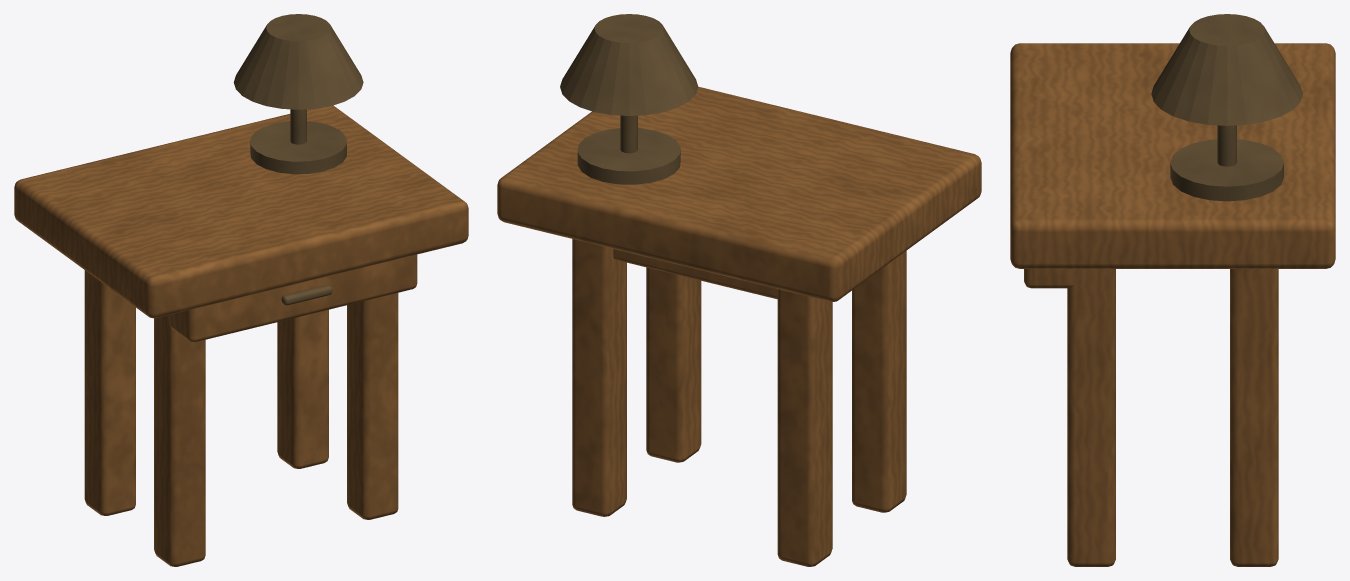
File: Furn_Desk.fbx
3 views of the same model, side by side, from view 1: azimuth 30°, elevation 25°; view 2: azimuth 150°, elevation 25°; view 3: azimuth 270°, elevation 25° (orthographic). The views are drawn at different scales.
Parts seen in each view (by area): view 1: Furn_Desk_Mesh; view 2: Furn_Desk_Mesh; view 3: Furn_Desk_Mesh.
Boxes of the visible parts, x1=… form: Furn_Desk_Mesh: x1=14, y1=14, x2=468, y2=566; Furn_Desk_Mesh: x1=497, y1=14, x2=981, y2=566; Furn_Desk_Mesh: x1=1010, y1=14, x2=1335, y2=566.
Bounding box in the file's own units: 0.8 × 1.06 × 0.6.
Materials: 3 (3 with a texture image).
